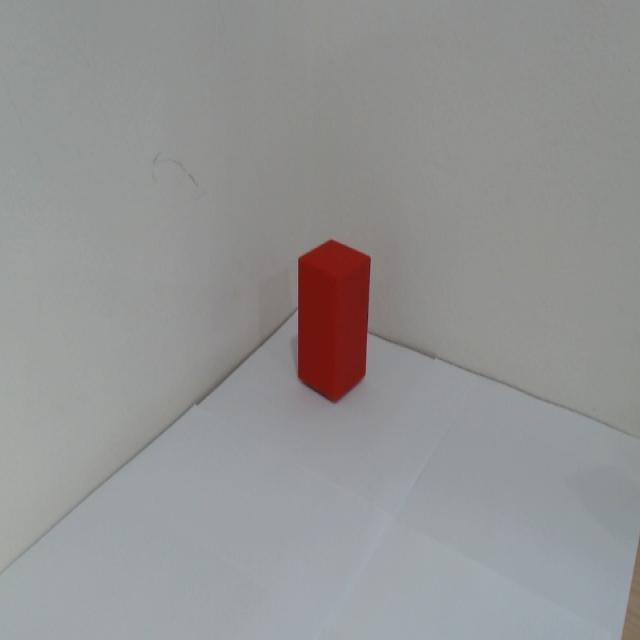cube: (292, 230, 374, 408)
